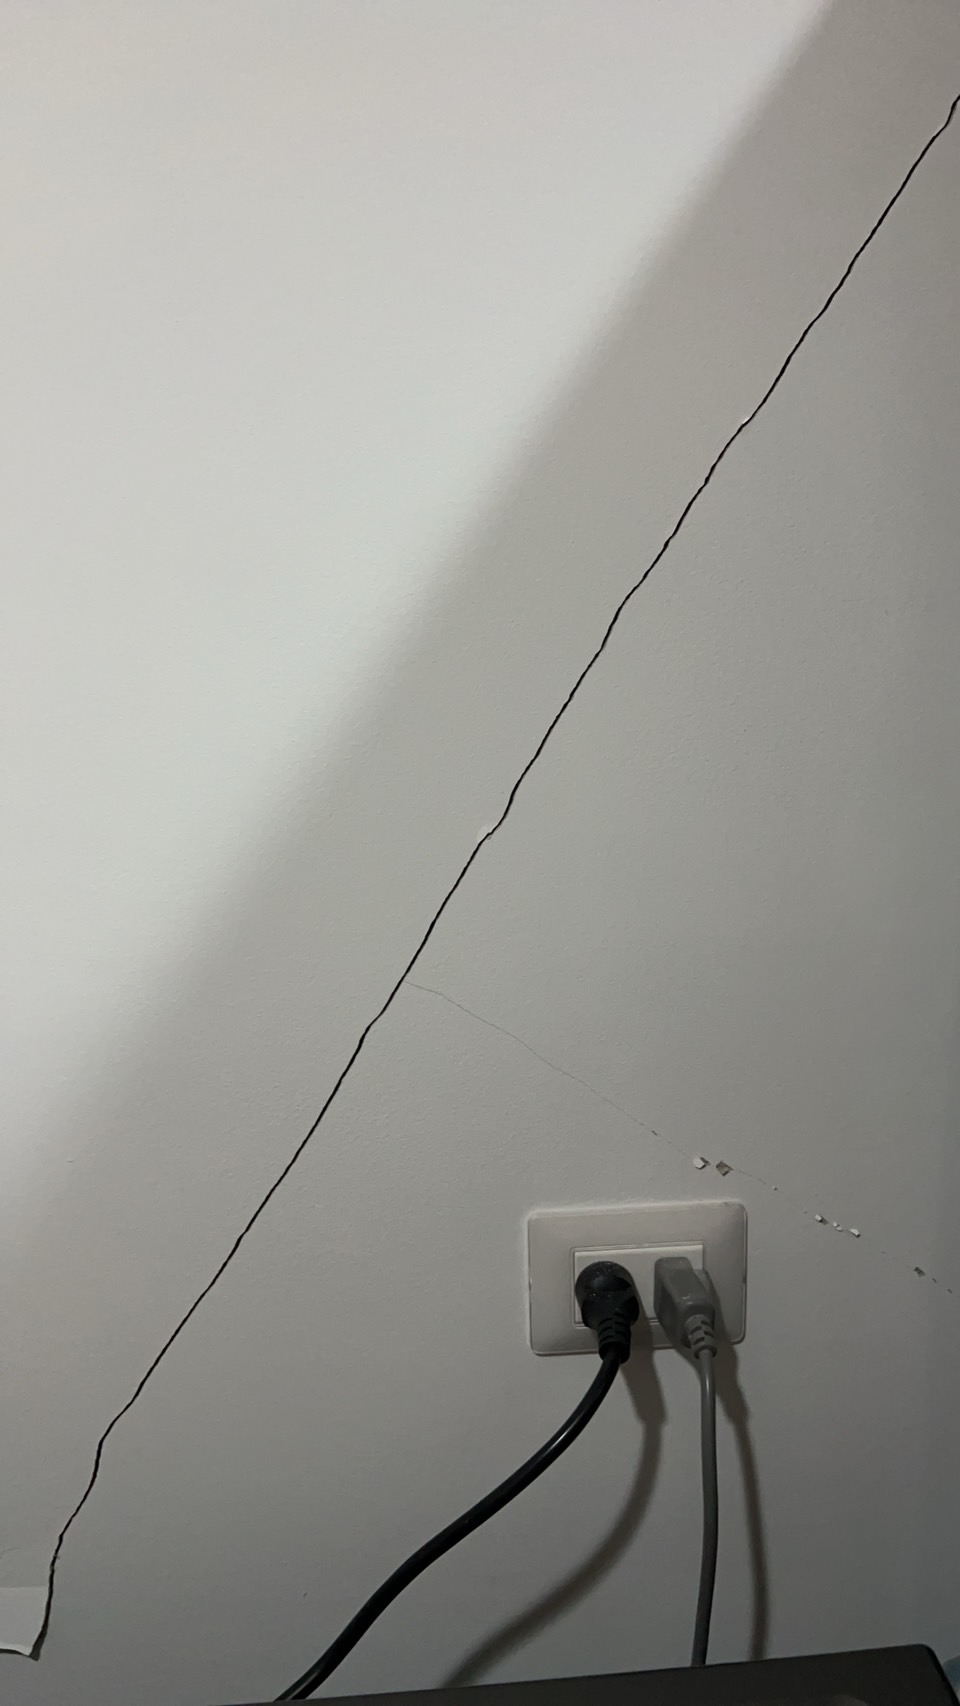Medium: (59, 639, 519, 1403)
